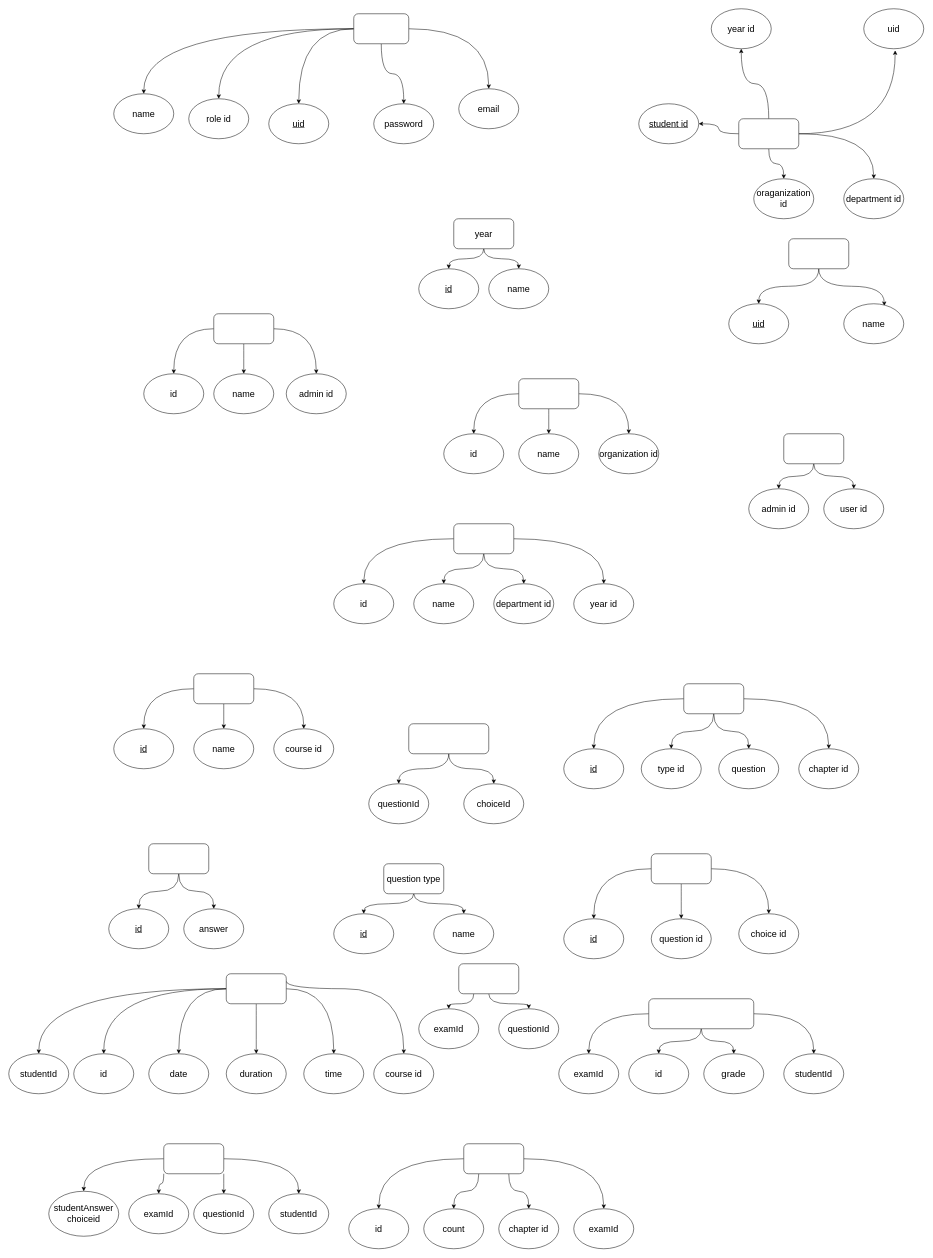
Image size: 933x1258. Some labels were removed from this diagram. Here are the shapes that lost their labels. From the top down, the centre of each, then its label:
At pixel 381 28: "user".
At pixel 768 133: "student".
At pixel 818 253: "Role".
At pixel 243 328: "organization".
At pixel 548 393: "department".
At pixel 813 448: "admin".
At pixel 483 538: "course".
At pixel 223 688: "chapter".
At pixel 713 698: "questiion".
At pixel 448 738: "questionChoice".
At pixel 178 858: "choice".
At pixel 681 868: "correct answers".
At pixel 256 988: "exam".
At pixel 488 978: "examQuestion".
At pixel 701 1013: "examStudent/history".
At pixel 193 1158: "solveExam".
At pixel 493 1158: "examChapter".
